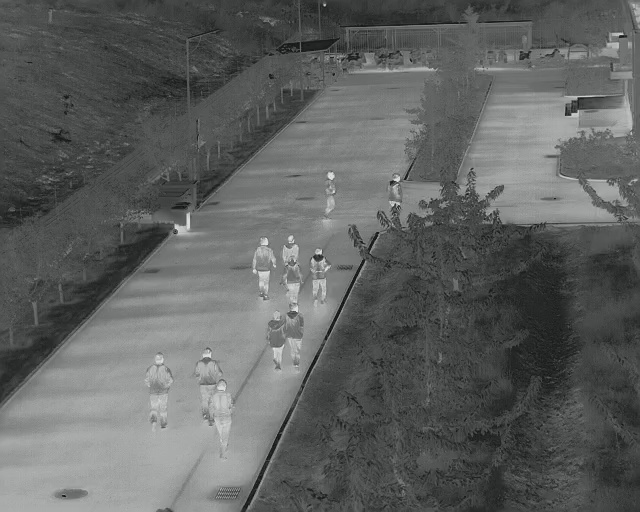person: (144, 352, 171, 430), (212, 380, 236, 458), (254, 234, 277, 300), (194, 348, 221, 402), (285, 301, 305, 369), (309, 247, 332, 302), (282, 237, 303, 297), (265, 310, 285, 371), (321, 170, 340, 220), (387, 171, 405, 207)
